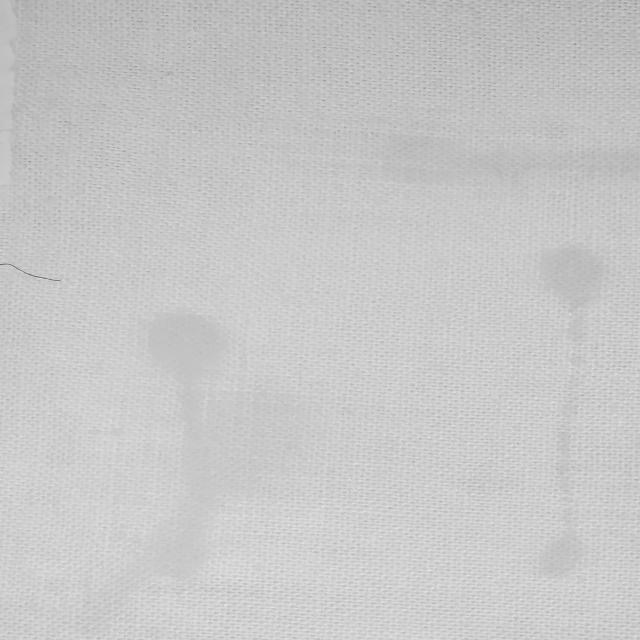stain: (73, 297, 243, 631), (523, 227, 628, 585)
